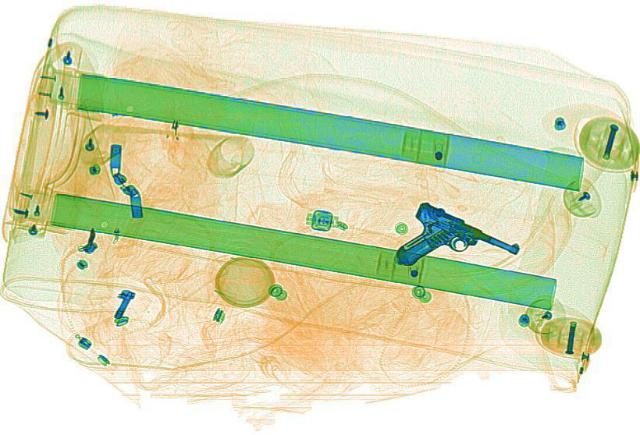Gun: (368, 200, 528, 293)
